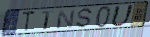0: (94, 5, 112, 29)
N: (55, 9, 76, 30)
S: (74, 7, 95, 29)
T: (22, 10, 37, 33), (41, 10, 55, 30)
U: (110, 4, 136, 28)
